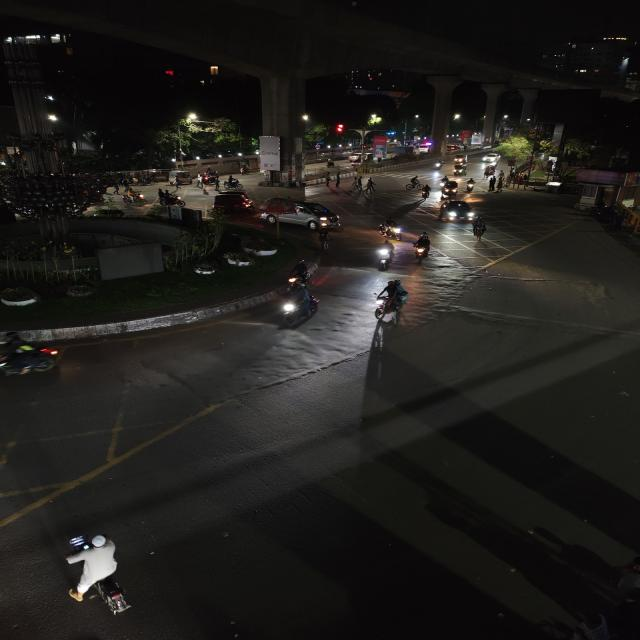bicycle: (406, 174, 422, 190)
car: (296, 198, 338, 230), (436, 199, 475, 222), (484, 153, 499, 164), (347, 153, 360, 164)
cng: (209, 193, 256, 215), (170, 170, 192, 186), (451, 153, 469, 169), (441, 182, 460, 196)
motorcycle: (55, 530, 144, 619), (273, 281, 320, 329), (369, 278, 412, 325), (286, 258, 314, 288), (150, 187, 188, 209), (376, 216, 405, 242), (374, 240, 397, 272), (412, 232, 434, 262), (220, 175, 244, 191), (464, 177, 478, 193), (435, 159, 445, 172)
pedestrian: (55, 530, 143, 620), (468, 214, 491, 244), (351, 176, 367, 194), (418, 184, 431, 201), (324, 171, 335, 190), (332, 170, 343, 187), (367, 178, 375, 195)
